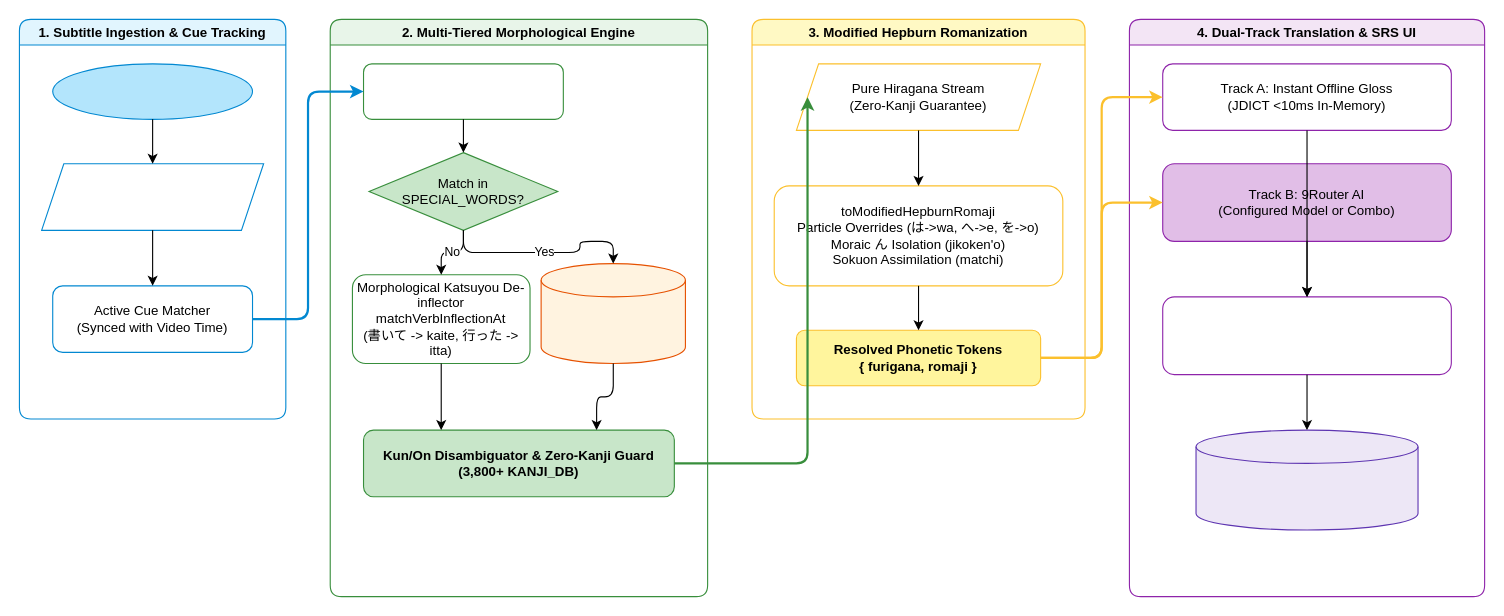
Image size: 1504x616. Some labels were removed from this diagram. The centre of each missing label's shape, as x and y in pixels:
"AnkiConnect Integration (:8765 1-Click Flashcard Export)" belongs at (x=1306, y=479).
"Extract Subtitle Cues (WebVTT / TimedText)" belongs at (x=152, y=196).
"Jukujikun Lexicon (眼鏡 -> megane 自己嫌悪 -> jikoken'o)" belongs at (x=612, y=313).
"On-Video Ruby Furigana Overlay & Native YouTube Sidebar Drawer" belongs at (x=1306, y=335).
"Sliding-Window Trie (6..1 Chars Lookahead)" belongs at (x=462, y=91).
"YouTube Video Playback" belongs at (x=152, y=91).
